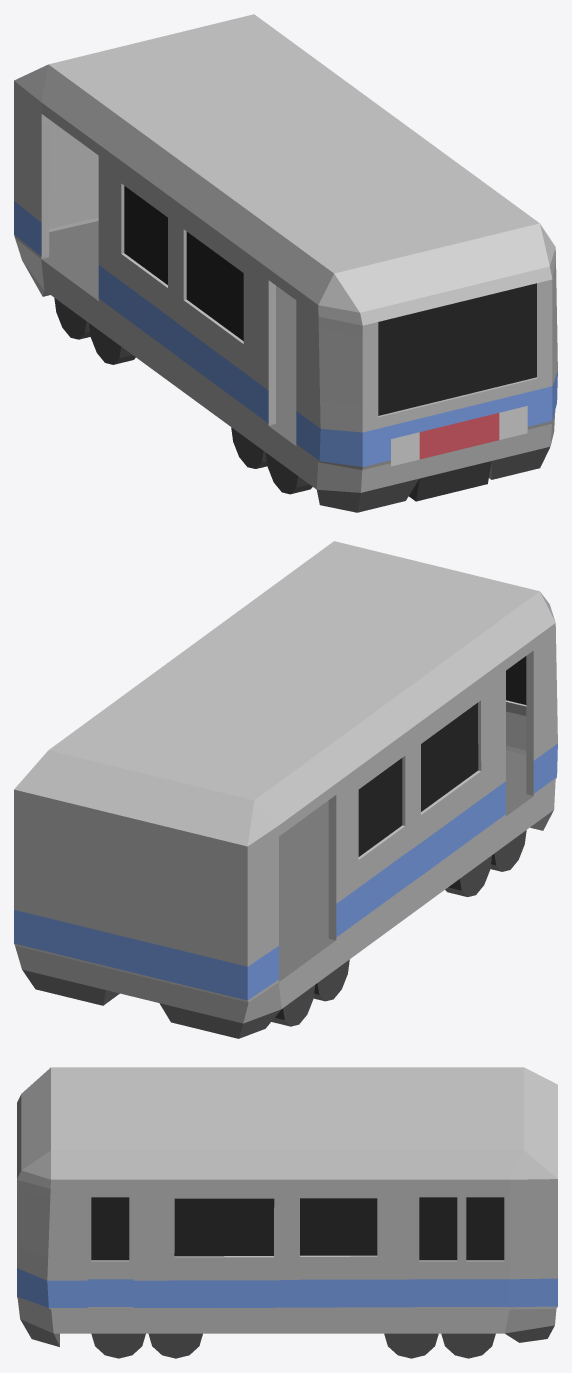
The model's file is train.fbx.
3 renders of one model, top to bottom at view 1: azimuth 30°, elevation 25°; view 2: azimuth 150°, elevation 25°; view 3: azimuth 270°, elevation 25°, orthographic. The views are drawn at different scales.
Visible parts, largest first — view 1: 立方体; view 2: 立方体; view 3: 立方体, 立方体.001, 立方体.002.
Boxes of the visible parts, x1=… form: 立方体: x1=14, y1=14, x2=557, y2=512; 立方体: x1=14, y1=541, x2=557, y2=1038; 立方体: x1=17, y1=1067, x2=557, y2=1358; 立方体.001: x1=414, y1=1189, x2=509, y2=1309; 立方体.002: x1=87, y1=1189, x2=133, y2=1309.
Size of the model in its own units: 3.16 by 3.12 by 7.56.
